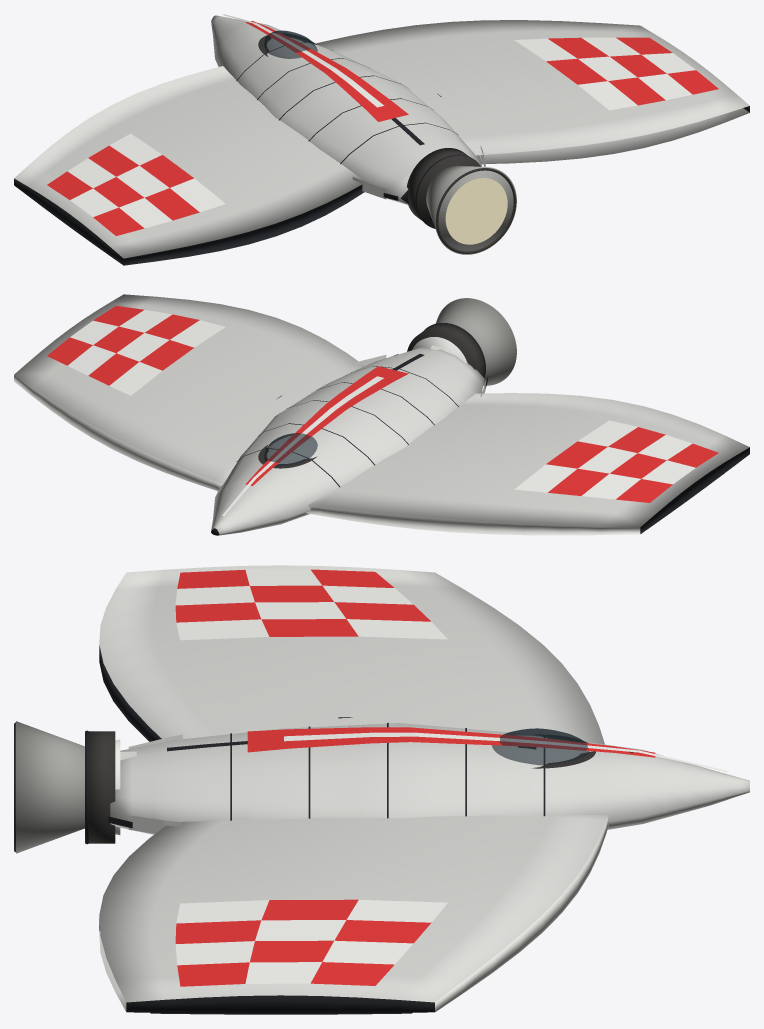
File: Ship_ManraRay_459947.glb
The picture shows the model from 3 angles, top to bottom: view 1: azimuth 30°, elevation 25°; view 2: azimuth 150°, elevation 25°; view 3: azimuth 270°, elevation 25°; orthographic projection. The views are drawn at different scales.
Parts seen in each view (by area): view 1: Wing_Left_MantaAerofoil, Wing_Right_MantaAerofoil, Fuselage_CentralRayHull_FacetedAeroBody, EngineEmitter, EngineBell_CentralMainRocketNozzle, PaintDorsalSweep_PrimaryMantaArrow, EngineMount_AftCentralTailBlock, CanopyGlass_LowInsetMantaDome, PaintOuterChecker_Left_01_01_Top, PaintOuterChecker_Left_02_01_Top, PaintOuterChecker_Right_01_01_Top, PaintOuterChecker_Left_01_02_Top (+22 smaller); view 2: Wing_Left_MantaAerofoil, Wing_Right_MantaAerofoil, Fuselage_CentralRayHull_FacetedAeroBody, EngineBell_CentralMainRocketNozzle, PaintDorsalSweep_PrimaryMantaArrow, EngineMount_AftCentralTailBlock, CanopyGlass_LowInsetMantaDome, PaintOuterChecker_Left_01_03_Top, PaintOuterChecker_Left_02_03_Top, PaintOuterChecker_Left_01_02_Top, PaintDorsalSweep_SecondaryNeedleLine, PaintOuterChecker_Right_01_03_Top (+21 smaller); view 3: Wing_Right_MantaAerofoil, Wing_Left_MantaAerofoil, Fuselage_CentralRayHull_FacetedAeroBody, EngineBell_CentralMainRocketNozzle, PaintDorsalSweep_PrimaryMantaArrow, EngineMount_AftCentralTailBlock, CanopyGlass_LowInsetMantaDome, PaintOuterChecker_Right_01_03_Top, PaintOuterChecker_Right_02_03_Top, PaintOuterChecker_Right_01_01_Top, PaintOuterChecker_Right_01_02_Top, PaintOuterChecker_Right_02_01_Top (+20 smaller).
Part boxes in pixels (left/top/right/bottom): Wing_Left_MantaAerofoil: left=14, top=66, right=366, bottom=265; Wing_Right_MantaAerofoil: left=315, top=20, right=749, bottom=164; Fuselage_CentralRayHull_FacetedAeroBody: left=211, top=15, right=481, bottom=204; EngineEmitter: left=445, top=178, right=507, bottom=244; EngineBell_CentralMainRocketNozzle: left=426, top=166, right=516, bottom=254; PaintDorsalSweep_PrimaryMantaArrow: left=245, top=21, right=408, bottom=121; EngineMount_AftCentralTailBlock: left=407, top=148, right=480, bottom=228; CanopyGlass_LowInsetMantaDome: left=264, top=30, right=317, bottom=58; PaintOuterChecker_Left_01_01_Top: left=170, top=178, right=225, bottom=212; PaintOuterChecker_Left_02_01_Top: left=145, top=188, right=199, bottom=220; PaintOuterChecker_Right_01_01_Top: left=578, top=81, right=637, bottom=110; PaintOuterChecker_Left_01_02_Top: left=140, top=155, right=193, bottom=187; Wing_Left_MantaAerofoil: left=306, top=393, right=749, bottom=535; Wing_Right_MantaAerofoil: left=14, top=294, right=364, bottom=490; Fuselage_CentralRayHull_FacetedAeroBody: left=211, top=347, right=484, bottom=535; EngineBell_CentralMainRocketNozzle: left=435, top=298, right=516, bottom=385; PaintDorsalSweep_PrimaryMantaArrow: left=245, top=366, right=408, bottom=485; EngineMount_AftCentralTailBlock: left=407, top=323, right=485, bottom=377; CanopyGlass_LowInsetMantaDome: left=264, top=433, right=317, bottom=466; PaintOuterChecker_Left_01_03_Top: left=514, top=464, right=577, bottom=492; PaintOuterChecker_Left_02_03_Top: left=548, top=469, right=608, bottom=495; PaintOuterChecker_Left_01_02_Top: left=546, top=441, right=607, bottom=468; PaintDorsalSweep_SecondaryNeedleLine: left=222, top=376, right=383, bottom=515; PaintOuterChecker_Right_01_03_Top: left=109, top=362, right=162, bottom=395; Wing_Right_MantaAerofoil: left=99, top=815, right=608, bottom=1013; Wing_Left_MantaAerofoil: left=99, top=565, right=604, bottom=744; Fuselage_CentralRayHull_FacetedAeroBody: left=110, top=723, right=749, bottom=834; EngineBell_CentralMainRocketNozzle: left=16, top=721, right=84, bottom=853; PaintDorsalSweep_PrimaryMantaArrow: left=247, top=727, right=655, bottom=757; EngineMount_AftCentralTailBlock: left=85, top=731, right=115, bottom=843; CanopyGlass_LowInsetMantaDome: left=492, top=728, right=589, bottom=765; PaintOuterChecker_Right_01_03_Top: left=346, top=899, right=447, bottom=922; PaintOuterChecker_Right_02_03_Top: left=334, top=920, right=431, bottom=943; PaintOuterChecker_Right_01_01_Top: left=176, top=900, right=269, bottom=923; PaintOuterChecker_Right_01_02_Top: left=261, top=899, right=358, bottom=920; PaintOuterChecker_Right_02_01_Top: left=175, top=920, right=261, bottom=943.
Size of the model in its own units: 9.32 by 1.22 by 6.74.
